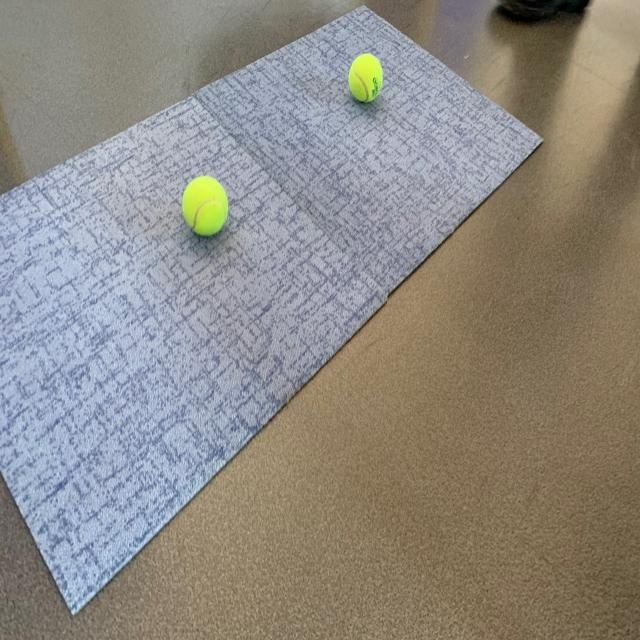Tennis-Ball: (182, 174, 231, 242), (347, 54, 385, 106)
